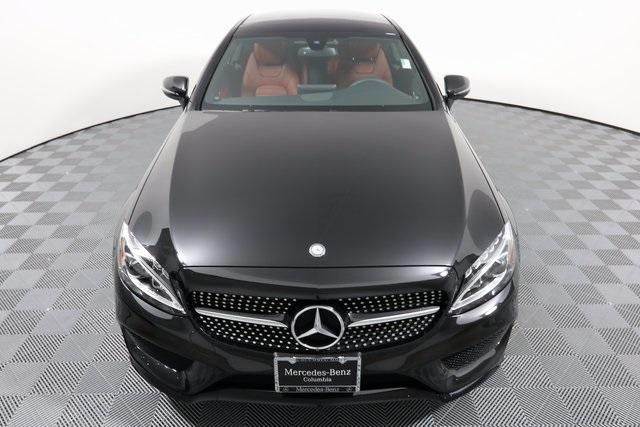C300Coupe: (105, 1, 525, 411)
